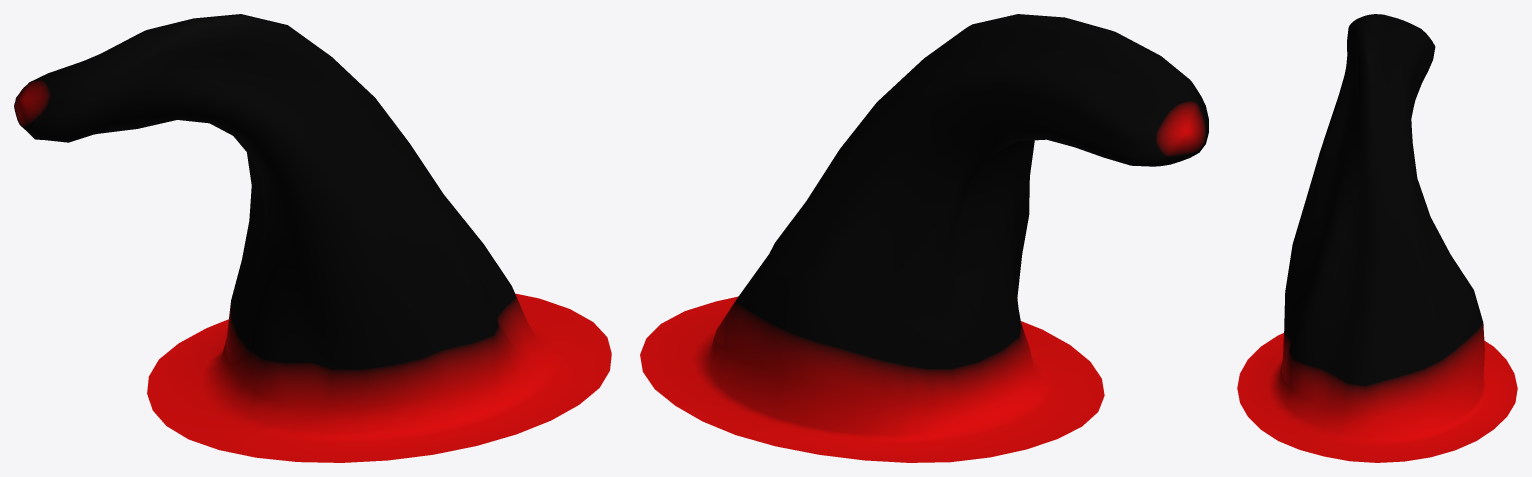
Rendered from GroundObject02A.fbx.
The picture shows the model from 3 angles, left to right: view 1: azimuth 30°, elevation 25°; view 2: azimuth 150°, elevation 25°; view 3: azimuth 270°, elevation 25°; orthographic projection. The views are drawn at different scales.
Visible parts, largest first — view 1: GroundObject02A; view 2: GroundObject02A; view 3: GroundObject02A.
Part boxes in pixels (box(x1,y1,x2,y2)): GroundObject02A: box(14, 14, 611, 462); GroundObject02A: box(640, 14, 1208, 462); GroundObject02A: box(1237, 14, 1517, 462).
Size of the model in its own units: 2.3 by 1.59 by 1.4.
